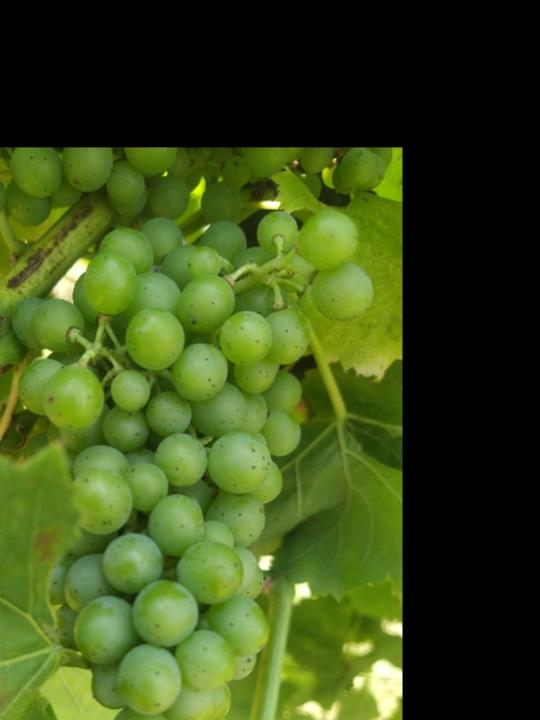grape: (4, 207, 378, 720)
